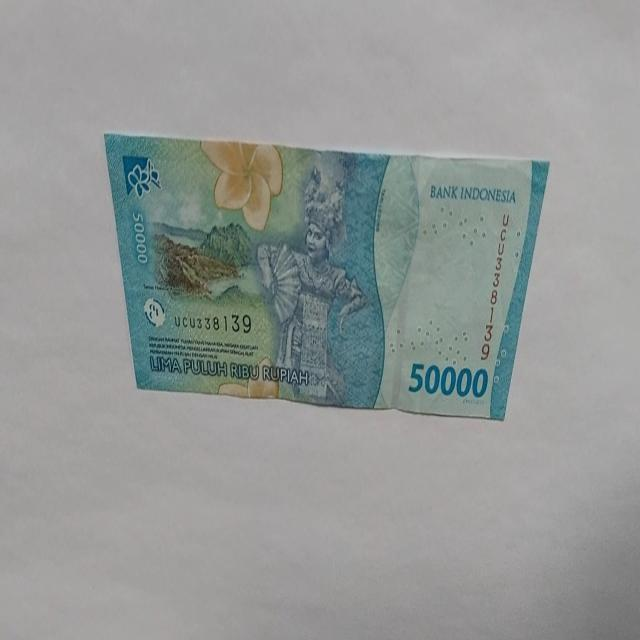lima puluh ribu rupiah: (103, 130, 550, 422), (406, 359, 489, 401)
